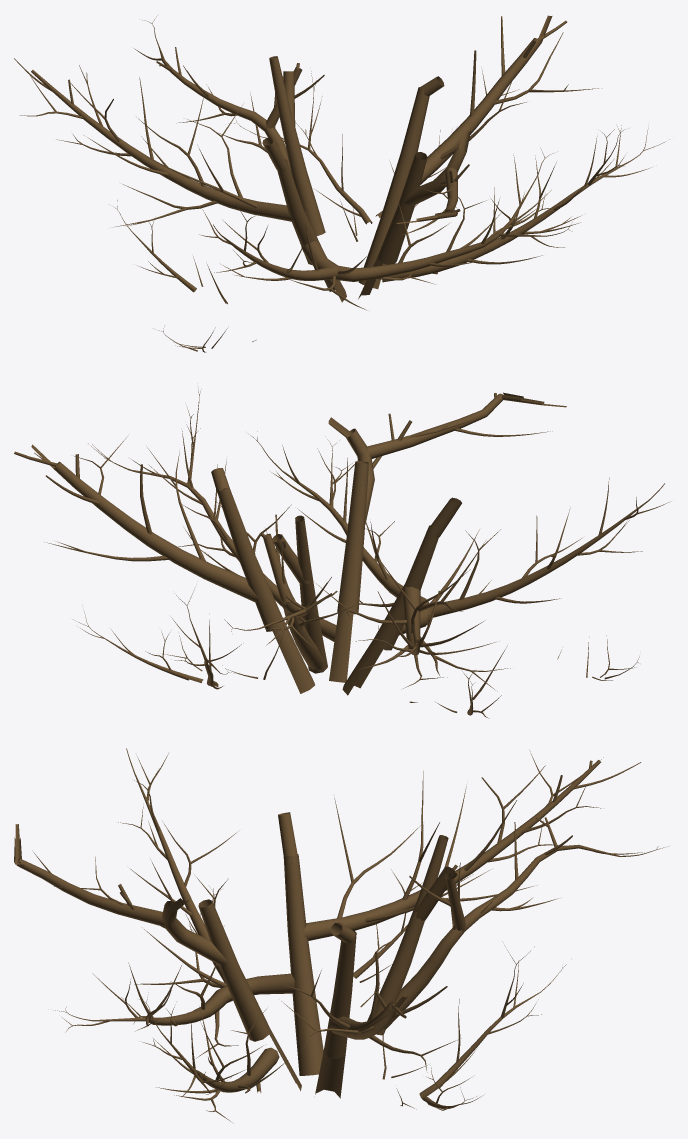
The model's file is Tree_Trunk_Mid.fbx.
3 renders of one model, top to bottom at view 1: azimuth 30°, elevation 25°; view 2: azimuth 150°, elevation 25°; view 3: azimuth 270°, elevation 25°, orthographic. The views are drawn at different scales.
Visible parts, largest first — view 1: Trunk_Mid; view 2: Trunk_Mid; view 3: Trunk_Mid.
Part boxes in pixels (x1,y1,x2,y2): Trunk_Mid: (14,15,665,352); Trunk_Mid: (14,385,670,718); Trunk_Mid: (14,748,668,1122).
Bounding box in the file's own units: 14.94 × 5.63 × 14.15.
